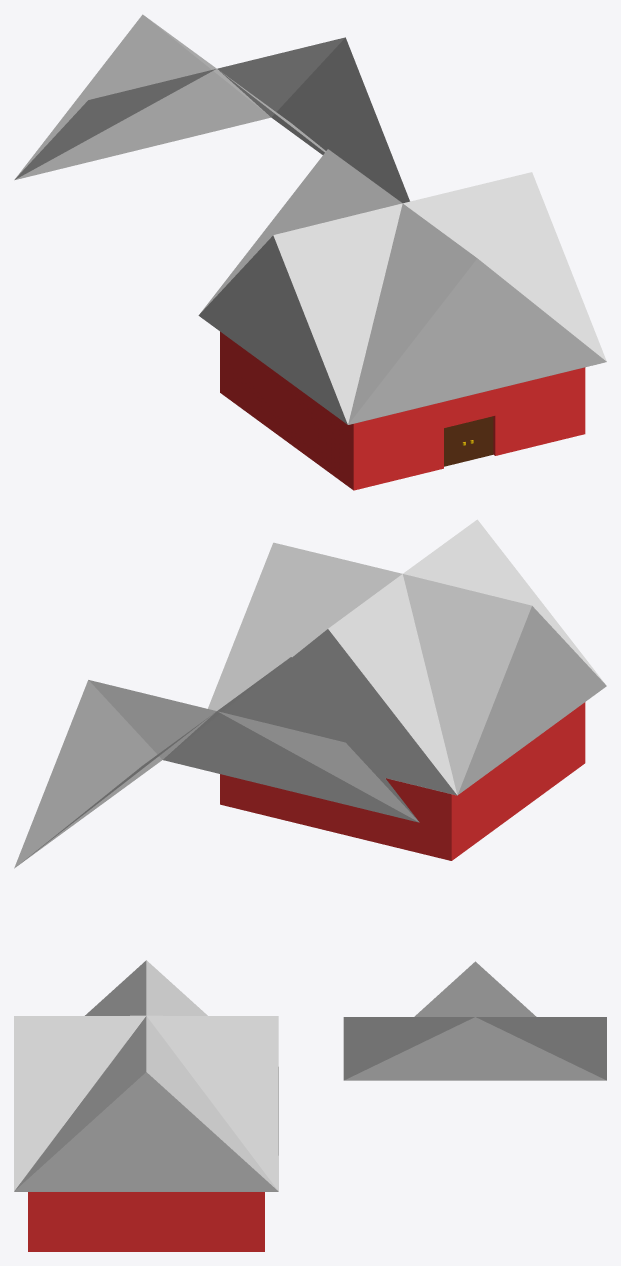
File: building.glb
The picture shows the model from 3 angles, top to bottom: view 1: azimuth 30°, elevation 25°; view 2: azimuth 150°, elevation 25°; view 3: azimuth 270°, elevation 25°; orthographic projection. The views are drawn at different scales.
Parts seen in each view (by area): view 1: Roof, Non 3d Roof, Building Base, Door Right, Door Left; view 2: Roof, Non 3d Roof, Building Base; view 3: Roof, Non 3d Roof, Building Base.
Boxes of the visible parts, x1,y1,x2,y2 form: Roof: (198, 149, 606, 424); Non 3d Roof: (14, 14, 409, 203); Building Base: (220, 331, 585, 490); Door Right: (467, 416, 493, 460); Door Left: (444, 422, 467, 466); Roof: (208, 519, 606, 795); Non 3d Roof: (14, 657, 419, 868); Building Base: (220, 702, 585, 860); Roof: (14, 960, 278, 1191); Non 3d Roof: (343, 961, 606, 1080); Building Base: (28, 1192, 264, 1251).
Size of the model in its own units: 40.25 by 31.2 by 90.13.
